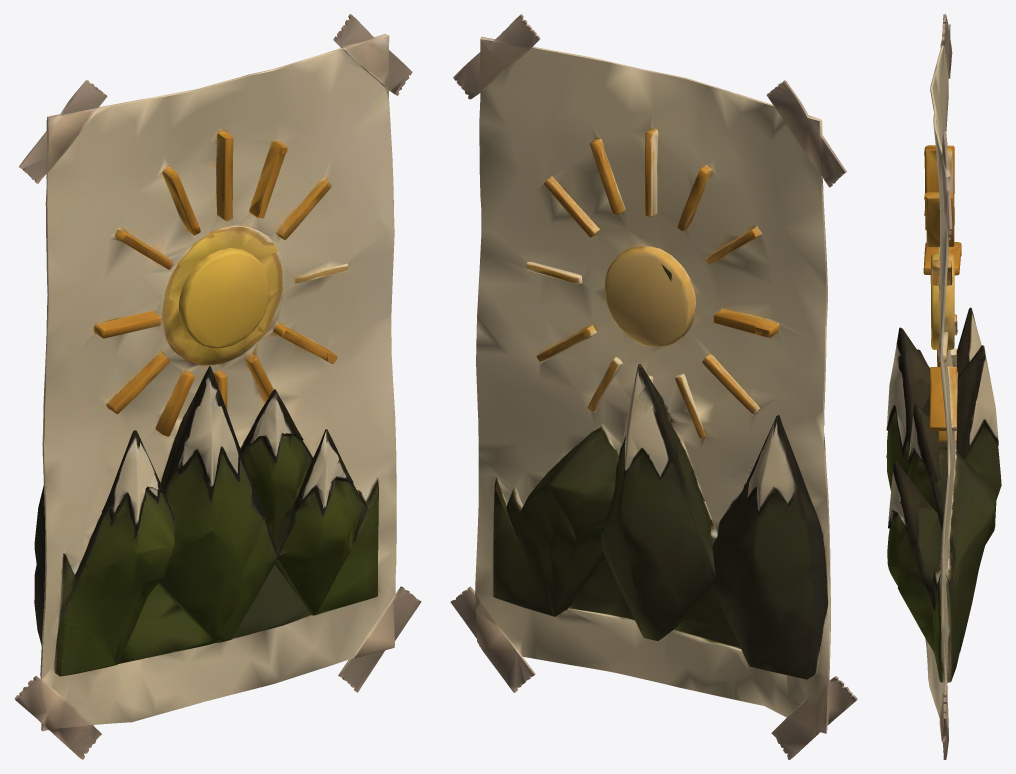
Rendered from decor_poster_mountain_idle.glb.
3 renders of one model, left to right at view 1: azimuth 30°, elevation 25°; view 2: azimuth 150°, elevation 25°; view 3: azimuth 270°, elevation 25°, orthographic. The views are drawn at different scales.
Visible parts, largest first — view 1: tripo_node_0f05167a-ee12-4ab0-b19e-9245427a8985; view 2: tripo_node_0f05167a-ee12-4ab0-b19e-9245427a8985; view 3: tripo_node_0f05167a-ee12-4ab0-b19e-9245427a8985.
Boxes of the visible parts, x1,y1,x2,y2 form: tripo_node_0f05167a-ee12-4ab0-b19e-9245427a8985: (14, 14, 421, 759); tripo_node_0f05167a-ee12-4ab0-b19e-9245427a8985: (450, 14, 857, 759); tripo_node_0f05167a-ee12-4ab0-b19e-9245427a8985: (886, 14, 1001, 759).
Bounding box in the file's own units: 0.4377 × 0.6999 × 0.1167.
Materials: 1 (1 with a texture image).
